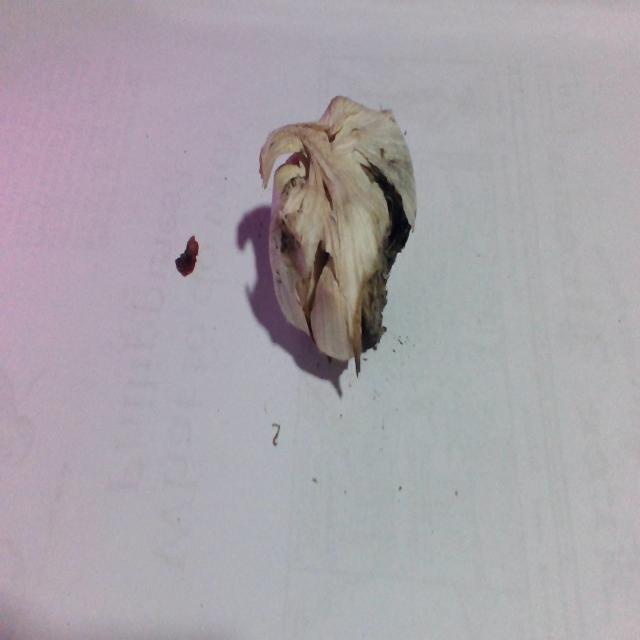garlic: (264, 92, 425, 375)
